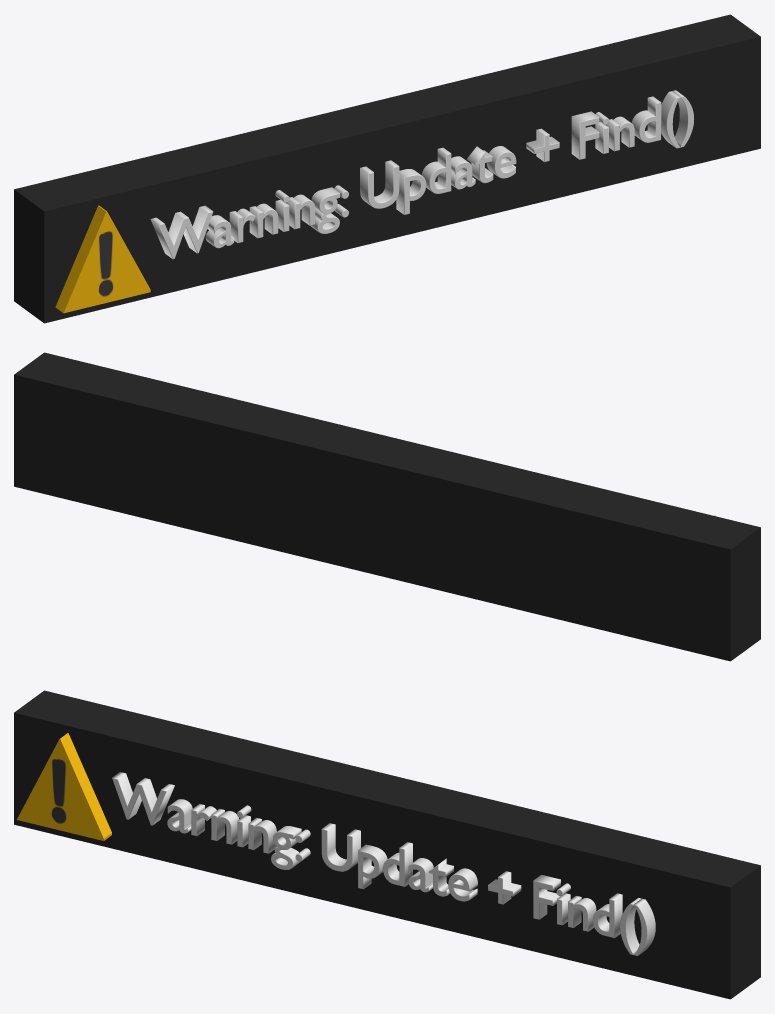
Rendered from Warning_ Update + Find()1.fbx.
3 views of the same model, one above another, from view 1: azimuth 30°, elevation 25°; view 2: azimuth 150°, elevation 25°; view 3: azimuth 330°, elevation 25° (orthographic).
Parts seen in each view (by area): view 1: no2, Warning: Update + Find(); view 2: no2; view 3: no2, Warning: Update + Find().
Boxes of the visible parts, <box> form: no2: <box>14,14,760,323</box>; Warning: Update + Find(): <box>150,90,693,259</box>; no2: <box>14,352,760,661</box>; no2: <box>14,690,760,999</box>; Warning: Update + Find(): <box>112,772,655,955</box>.
Bounding box in the file's own units: 2646 × 395 × 247.
